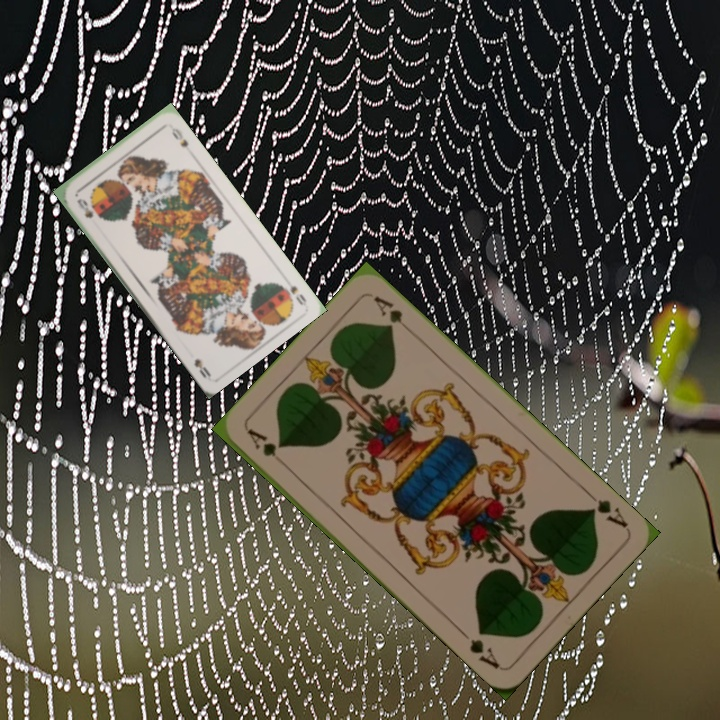GA: (243, 424, 291, 471), (582, 486, 631, 531)
SO: (73, 194, 96, 221), (286, 281, 309, 308)
